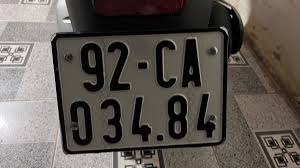Bien-so: (53, 29, 226, 156)
